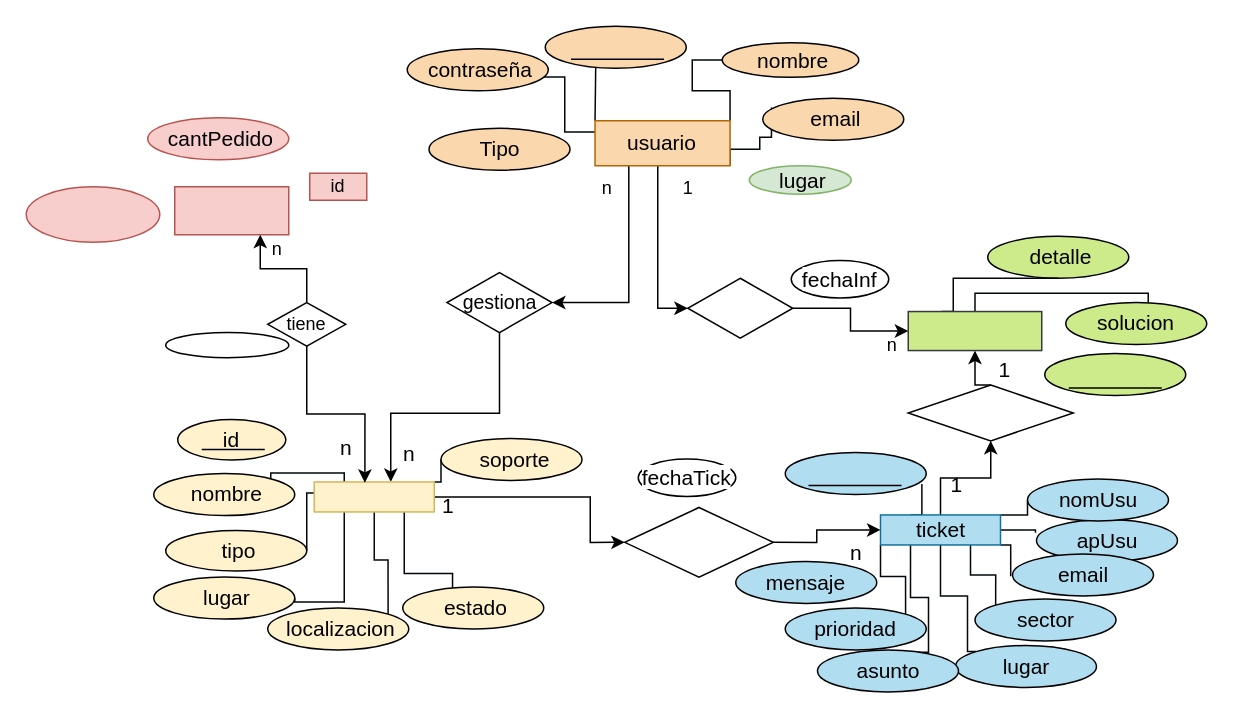
Image size: 1233x719. Some labels were removed from this diagram. Here are the shapes that lost their labels. From the top down, the box of each, then its label:
(544, 25, 686, 68): cedula
(25, 185, 160, 242): cantComprado
(173, 185, 289, 235): compra
(686, 277, 793, 338): realiza
(164, 331, 289, 358): fecha
(907, 310, 1042, 351): informe
(1043, 352, 1186, 396): num
(907, 384, 1073, 441): tiene_InforTick
(784, 451, 926, 495): codigo
(313, 480, 434, 512): Insumo
(623, 506, 773, 577): tiene_InsuTick
